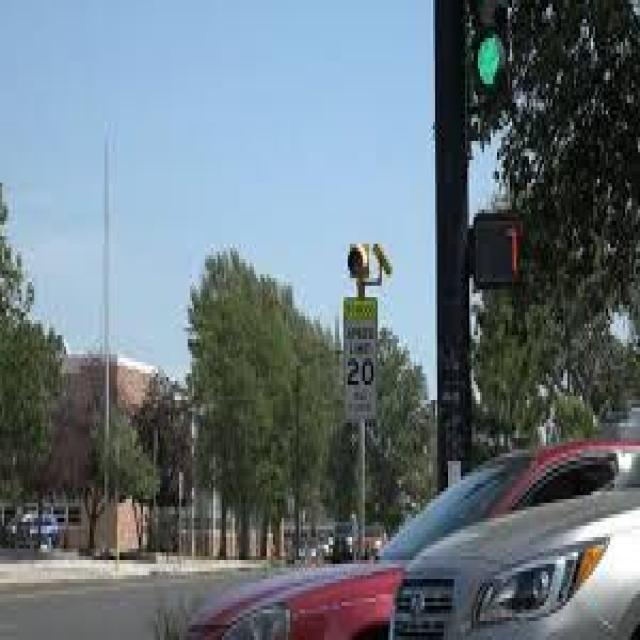speedLimit20: (340, 330, 381, 390)
